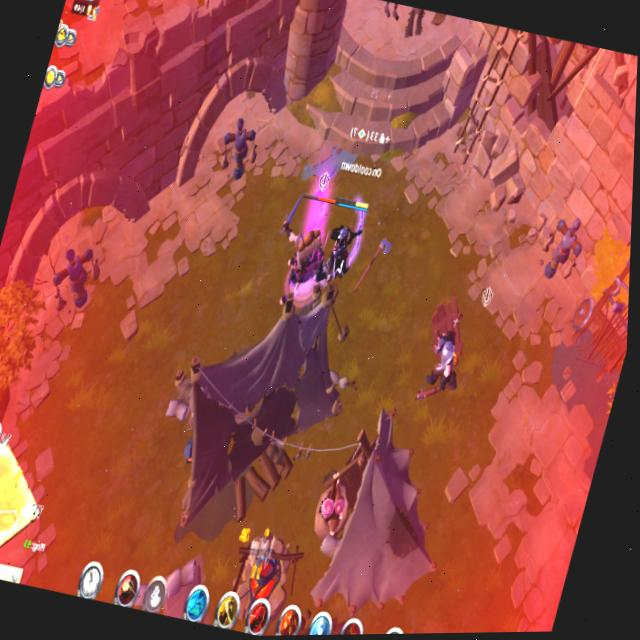ore: (259, 158, 346, 322), (412, 273, 499, 412)
red: (315, 191, 376, 282)
